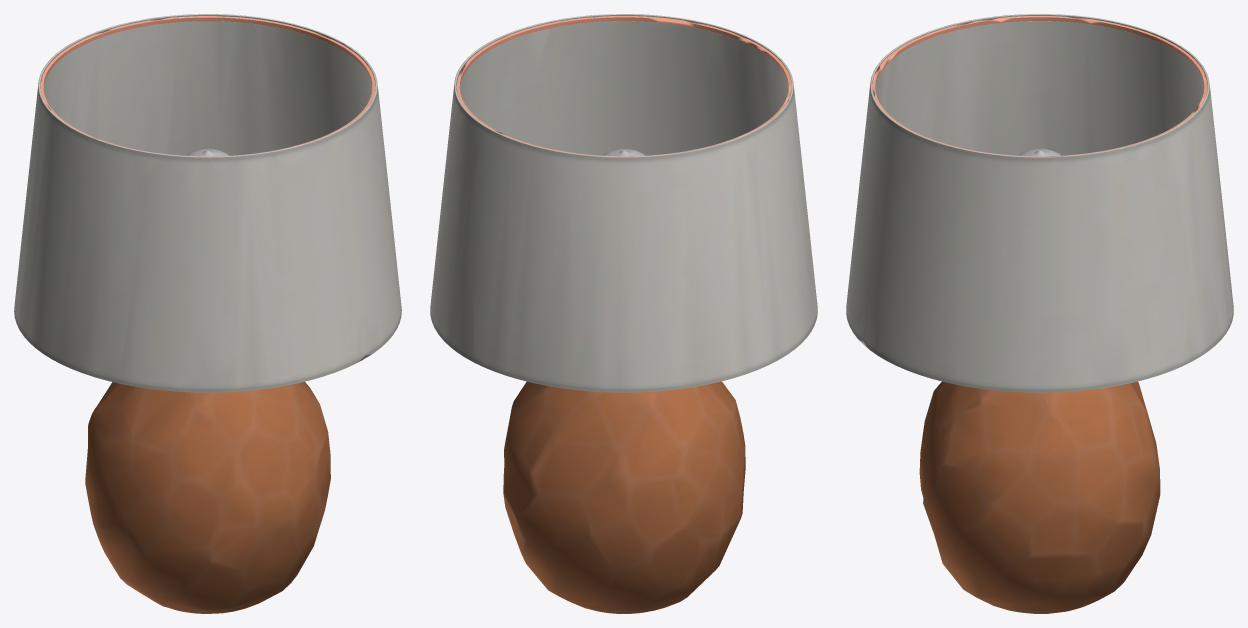
Rendered from B07374VCVN.glb.
3 views of the same model, side by side, from view 1: azimuth 30°, elevation 25°; view 2: azimuth 150°, elevation 25°; view 3: azimuth 270°, elevation 25° (orthographic).
Parts seen in each view (by area): view 1: RootNode; view 2: RootNode; view 3: RootNode.
Boxes of the visible parts, x1,y1,x2,y2 form: RootNode: [14, 14, 401, 613]; RootNode: [430, 14, 817, 613]; RootNode: [846, 14, 1233, 613].
Bounding box in the file's own units: 0.3005 × 0.4314 × 0.3005.
Materials: 1 (1 with a texture image).
